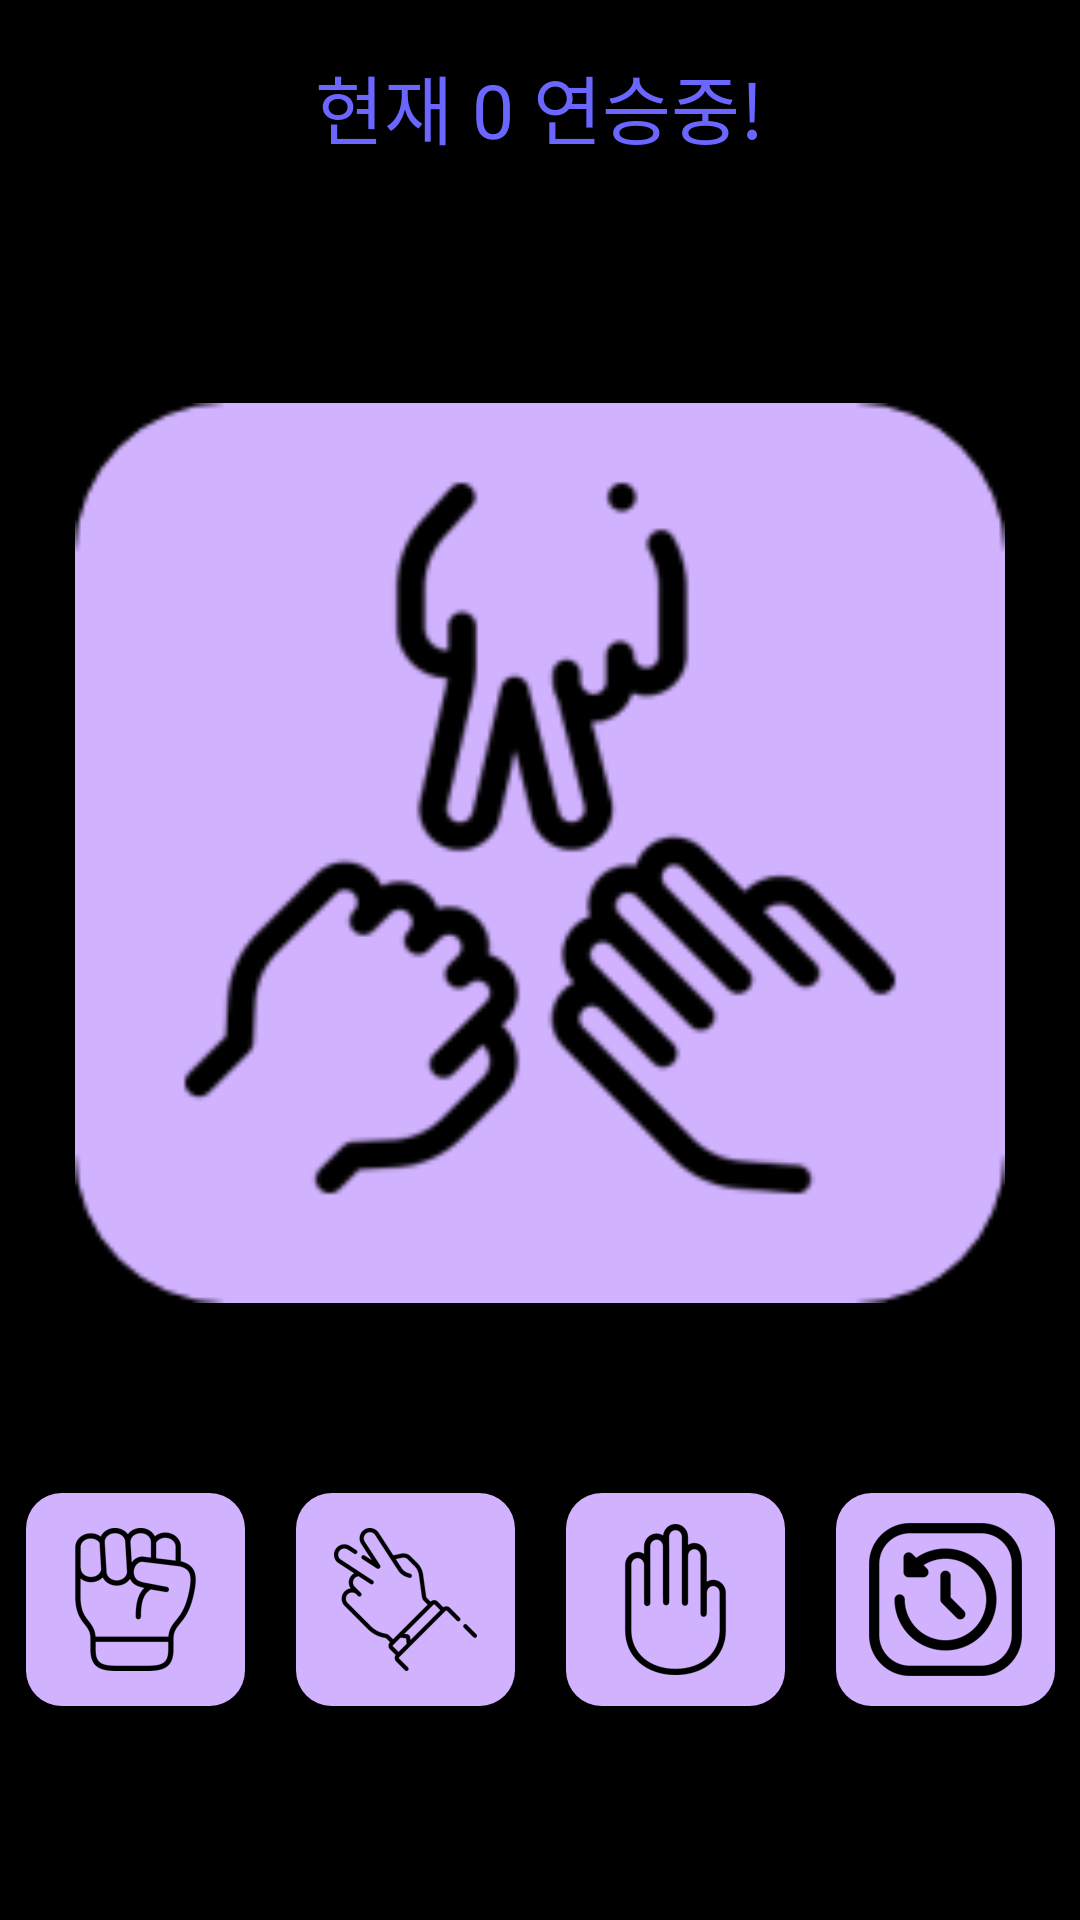

Point at icon controls on the screen. Image size 1080 x 1920, points as (x=x, y=y).
paper: (x=675, y=1599)
restart: (x=945, y=1599)
rock: (x=135, y=1599)
scissors: (x=405, y=1599)
